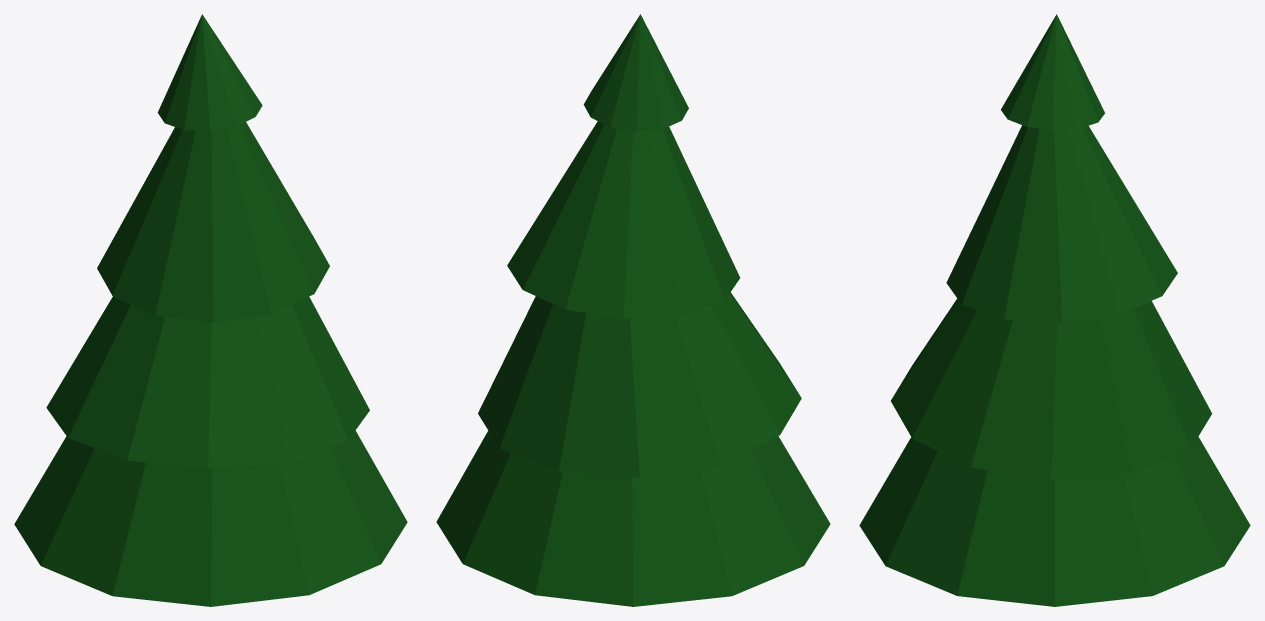
Rendered from Spruce1.fbx.
The picture shows the model from 3 angles, left to right: view 1: azimuth 30°, elevation 25°; view 2: azimuth 150°, elevation 25°; view 3: azimuth 270°, elevation 25°; orthographic projection.
Parts seen in each view (by area): view 1: Cylinder; view 2: Cylinder; view 3: Cylinder.
Boxes of the visible parts, bbox=[...] form: Cylinder: bbox=[14, 14, 407, 606]; Cylinder: bbox=[436, 14, 830, 606]; Cylinder: bbox=[859, 14, 1250, 606].
Size of the model in its own units: 1053 by 1602 by 1053.
